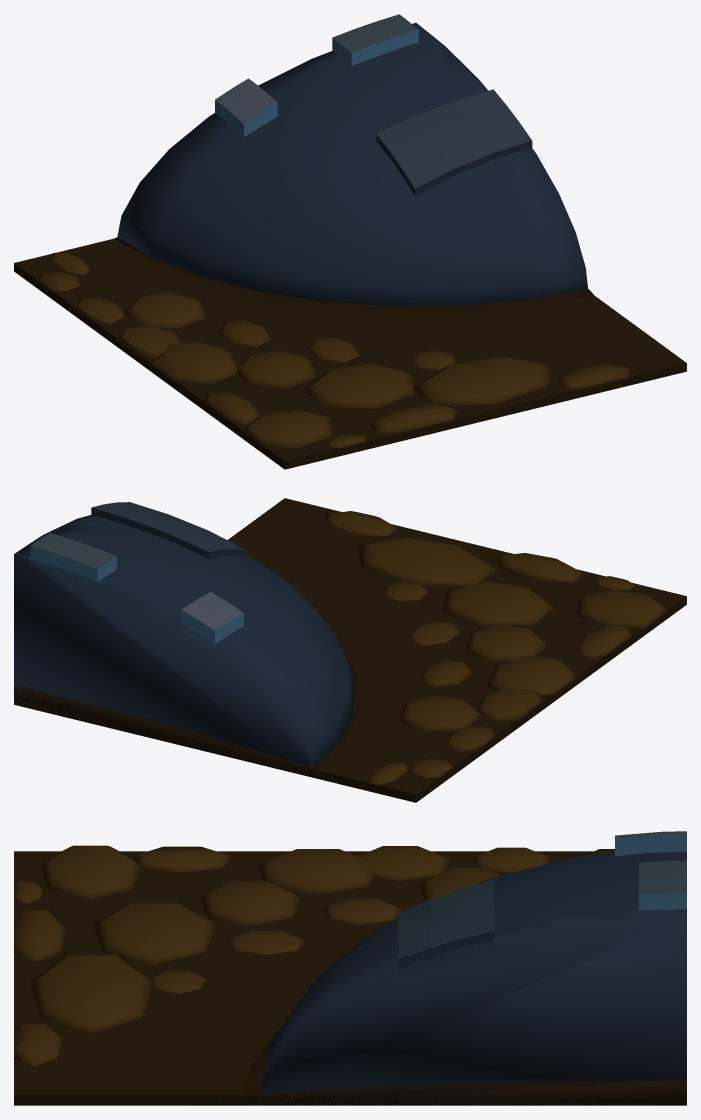
Rendered from newshr-39.glb.
3 views of the same model, one above another, from view 1: azimuth 30°, elevation 25°; view 2: azimuth 150°, elevation 25°; view 3: azimuth 270°, elevation 25° (orthographic). The views are drawn at different scales.
Parts seen in each view (by area): view 1: newshr-39; view 2: newshr-39; view 3: newshr-39.
Boxes of the visible parts, box(x1,y1,x2,y2) form: newshr-39: box(14, 14, 686, 469); newshr-39: box(14, 498, 686, 802); newshr-39: box(14, 831, 686, 1105).
Size of the model in its own units: 2 by 0.7753 by 2.33.
